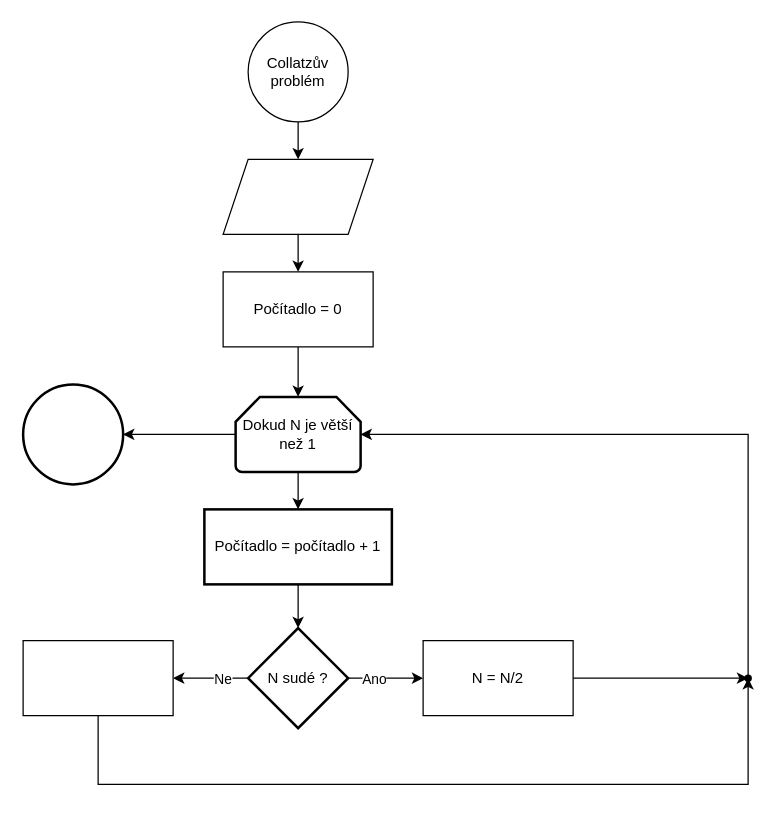
Some shapes in this 783 by 816 pixel diagram are drawn without their labels. The centre of each missing label's shape, as x and y in pixels:
"Konec, vysledek je v pocitadlo" goes at pixel 72 433.
"N - celé číslo" goes at pixel 297 196.
"N = 3N+1" goes at pixel 97 677.
